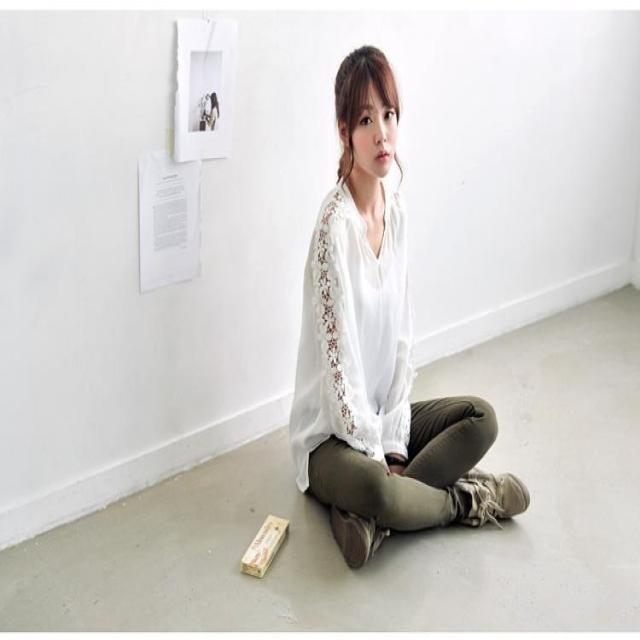long-sleeve-top: (303, 180, 428, 440)
trousers: (300, 446, 488, 539)
